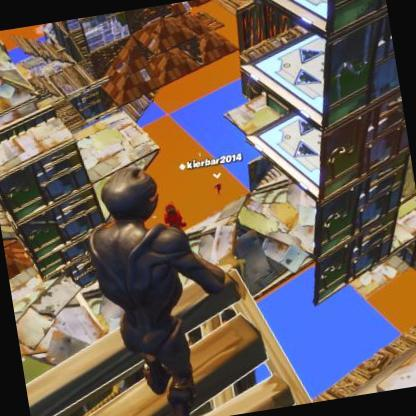person: (216, 182, 223, 194)
